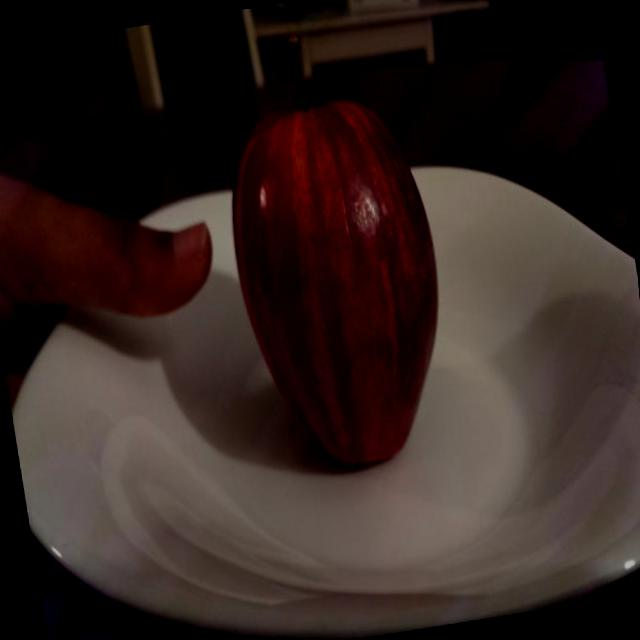Apple: (195, 3, 474, 496)
Finger: (81, 174, 236, 354)
